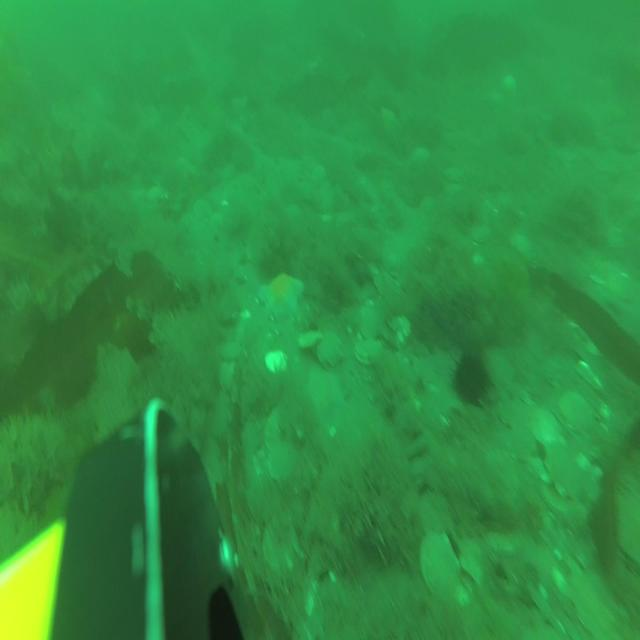echinus: (448, 344, 492, 406)
scallop: (567, 561, 615, 638), (418, 526, 462, 602), (540, 436, 588, 500), (560, 383, 598, 443), (261, 517, 298, 573), (530, 403, 565, 452), (314, 328, 344, 372), (265, 442, 296, 483), (498, 392, 530, 430), (370, 268, 398, 304), (354, 336, 384, 367), (264, 405, 284, 449), (296, 326, 326, 352), (263, 346, 290, 374), (470, 218, 494, 248), (216, 359, 236, 394), (192, 194, 214, 223), (444, 162, 467, 187), (220, 340, 241, 360), (310, 162, 326, 186)
starfish: (258, 268, 304, 324), (305, 364, 349, 422)
